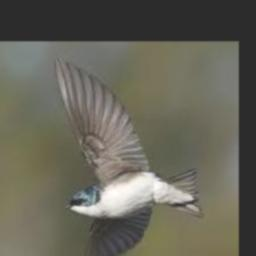Swallow: (53, 57, 202, 256)
